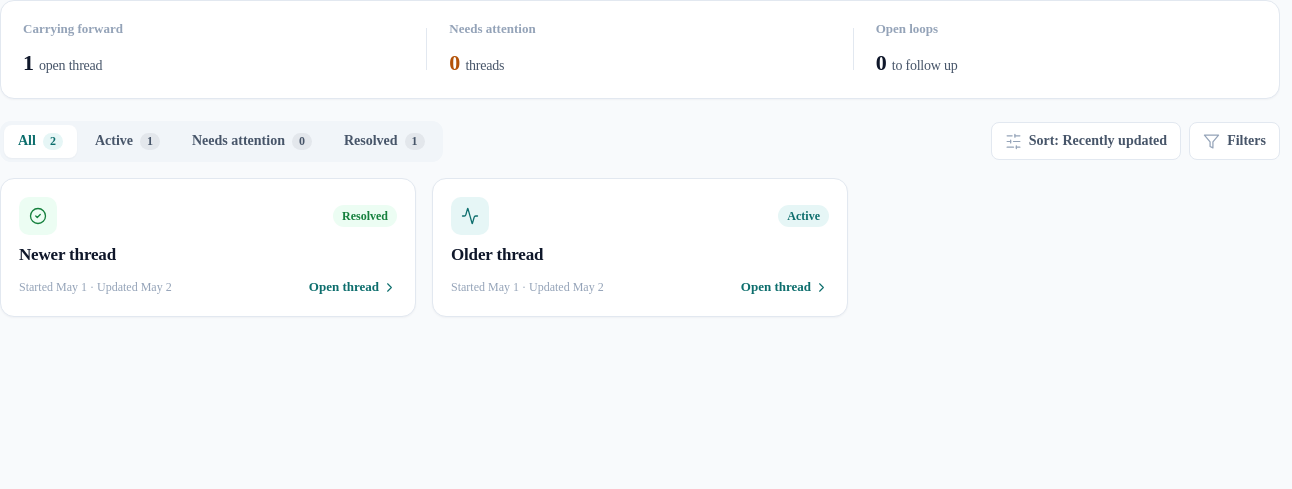
Test: WorkspaceHome › hides a status via the filters menu
The image size is (1292, 489).
Expected: the heading "Newer thread" is shown, 19,245 -> 116,264
Click the button "Filters". click: click(1235, 142)
box: 1189,122 -> 1280,160
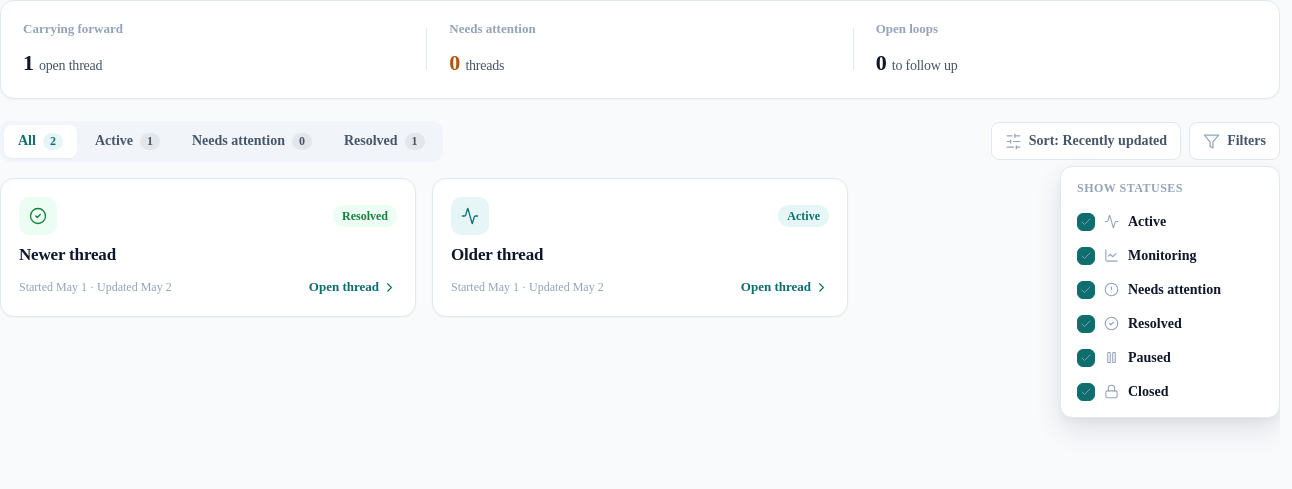
Click the menu item "Resolved". click: click(1170, 324)
box: 1069,307 -> 1271,341
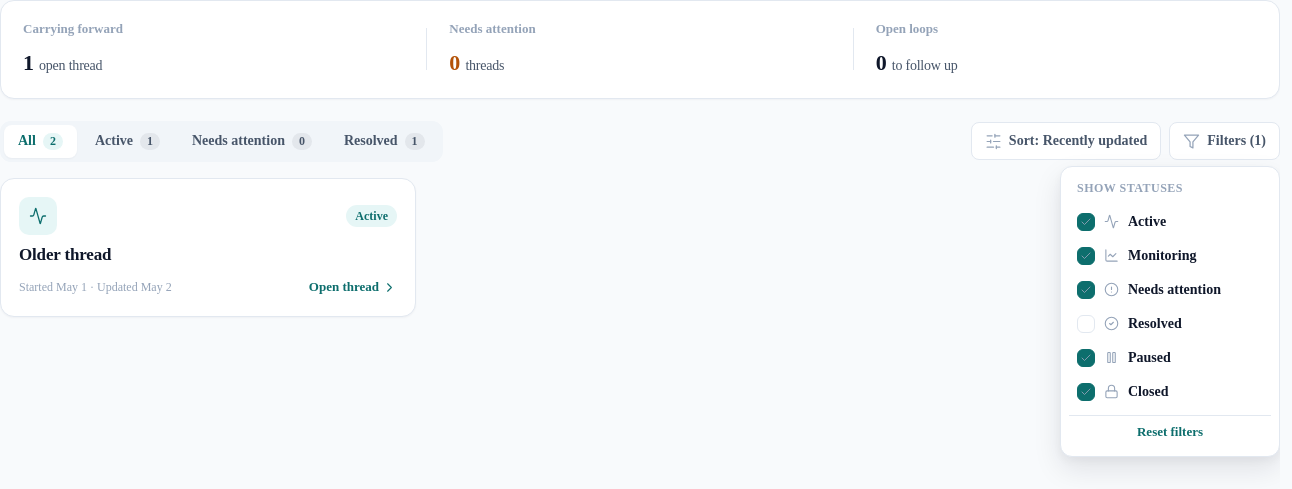
Expected: the heading "Older thread" is shown, 19,245 -> 111,264
Expected: the link "Newer thread" is gone
